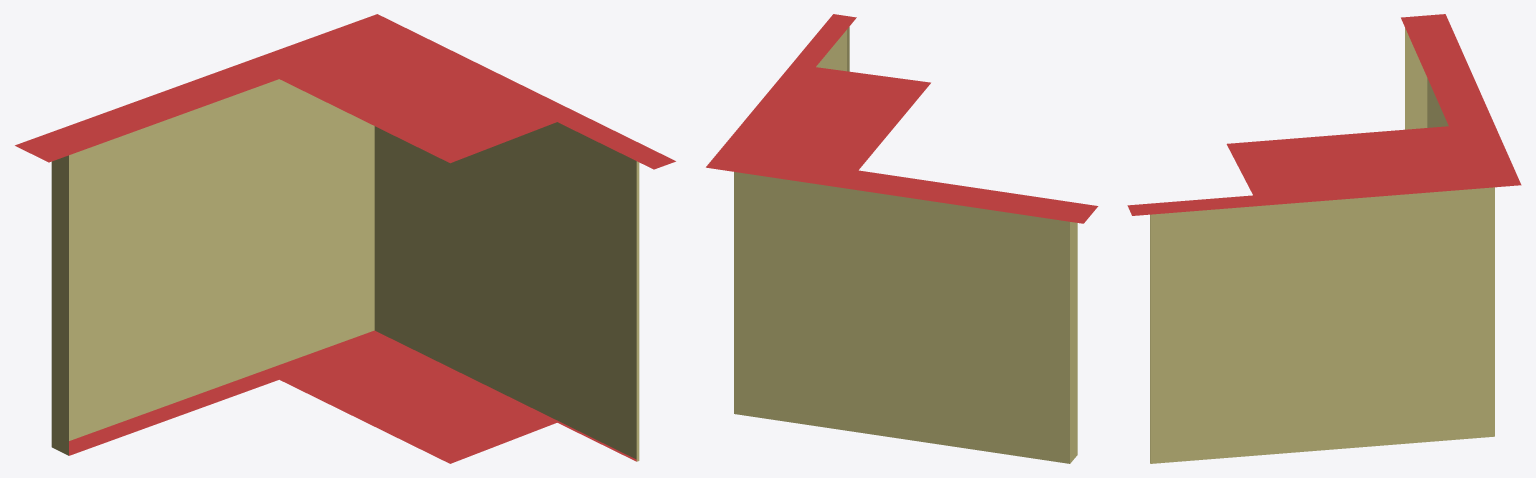
The picture shows the model from 3 angles, left to right: view 1: azimuth 30°, elevation 25°; view 2: azimuth 150°, elevation 25°; view 3: azimuth 270°, elevation 25°; orthographic projection. The views are drawn at different scales.
Size of the model in its own units: 10.46 by 8.62 by 6.25.
